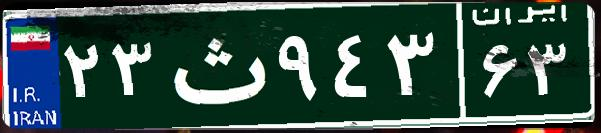2: (57, 26, 110, 107)
3: (385, 28, 445, 110), (110, 28, 158, 105), (525, 38, 570, 115)
4: (330, 28, 385, 110)
6: (475, 38, 525, 113)
9: (273, 28, 330, 110)
ث: (158, 15, 273, 115)
